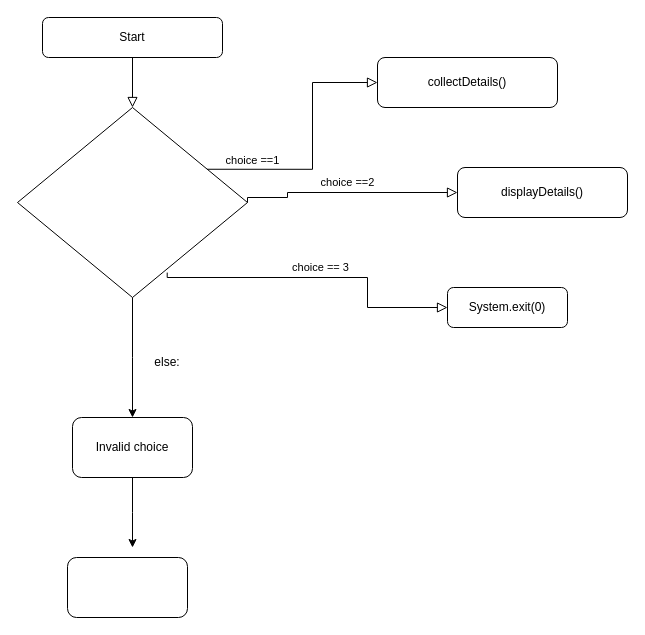
Some shapes in this 645 by 635 pixel diagram are drawn without their labels. The box of each missing label's shape, as (x1, y1, x2, y2) in pixels:
End: (66, 556, 188, 618)
Menu: 1.Enter details 2.Display details 3.Search: (16, 106, 248, 298)
